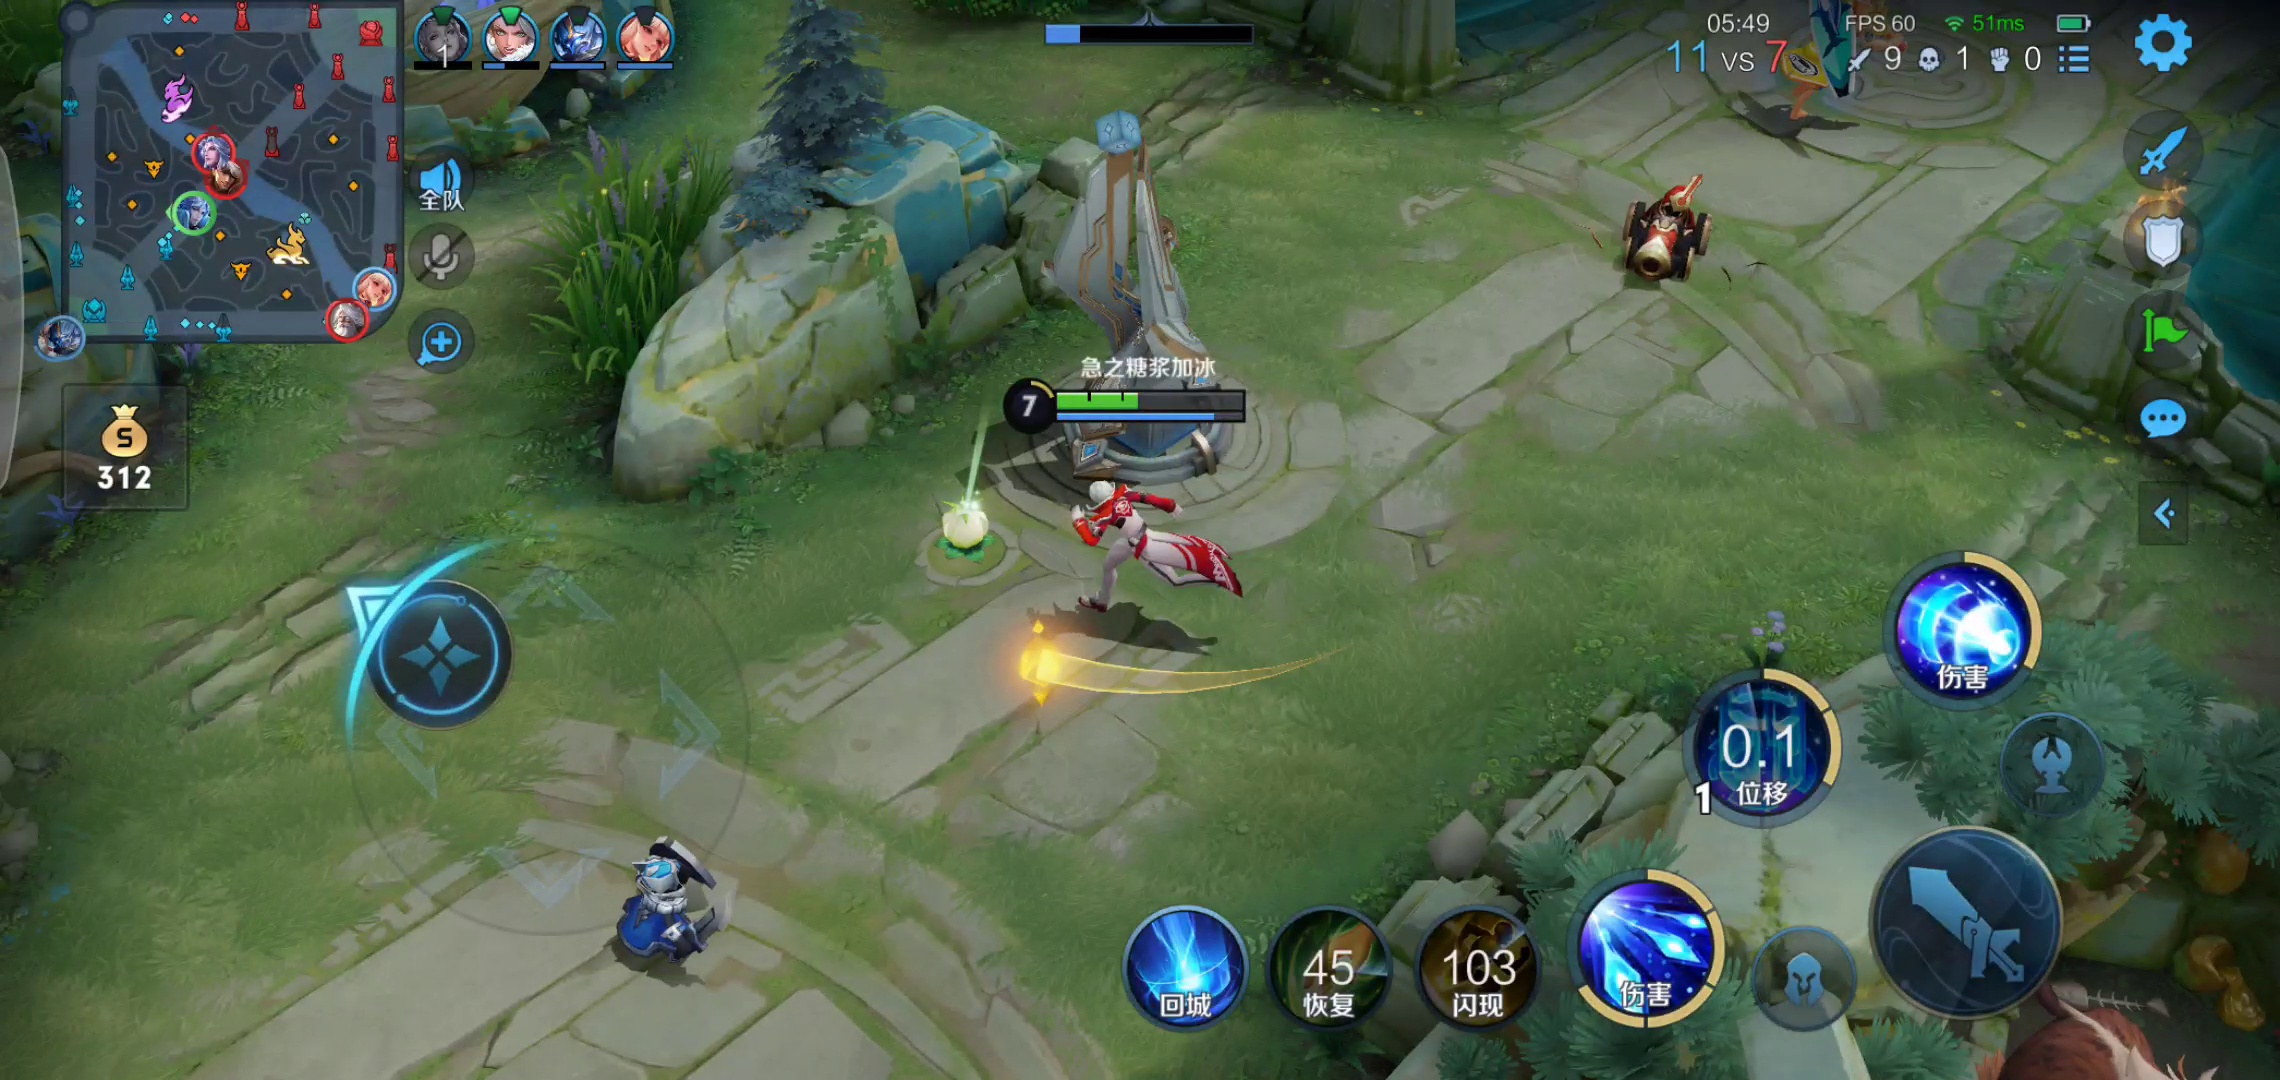grass: (521, 134, 742, 368)
hero: (1061, 471, 1271, 603), (1774, 1, 1886, 145)
soldier: (595, 829, 760, 970), (1610, 174, 1720, 285)
tower: (1021, 110, 1269, 477)
wild_monster: (2007, 964, 2196, 1079)
